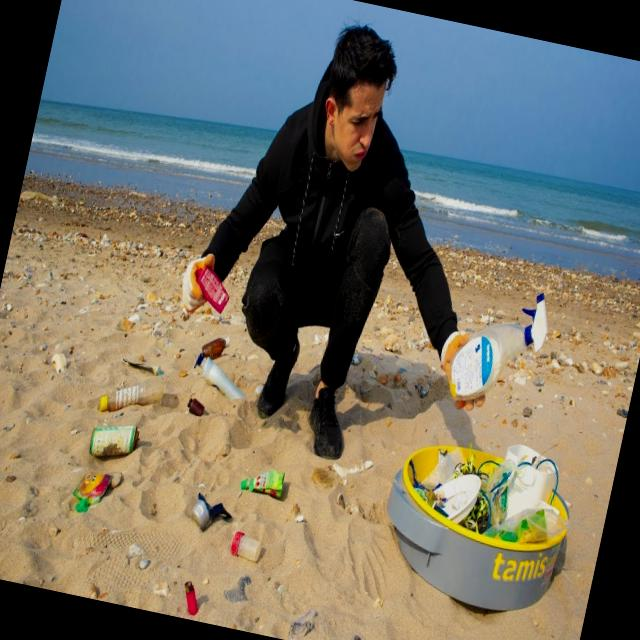garbage: (374, 404, 576, 640), (78, 412, 152, 466), (92, 366, 148, 416), (238, 457, 284, 498)
